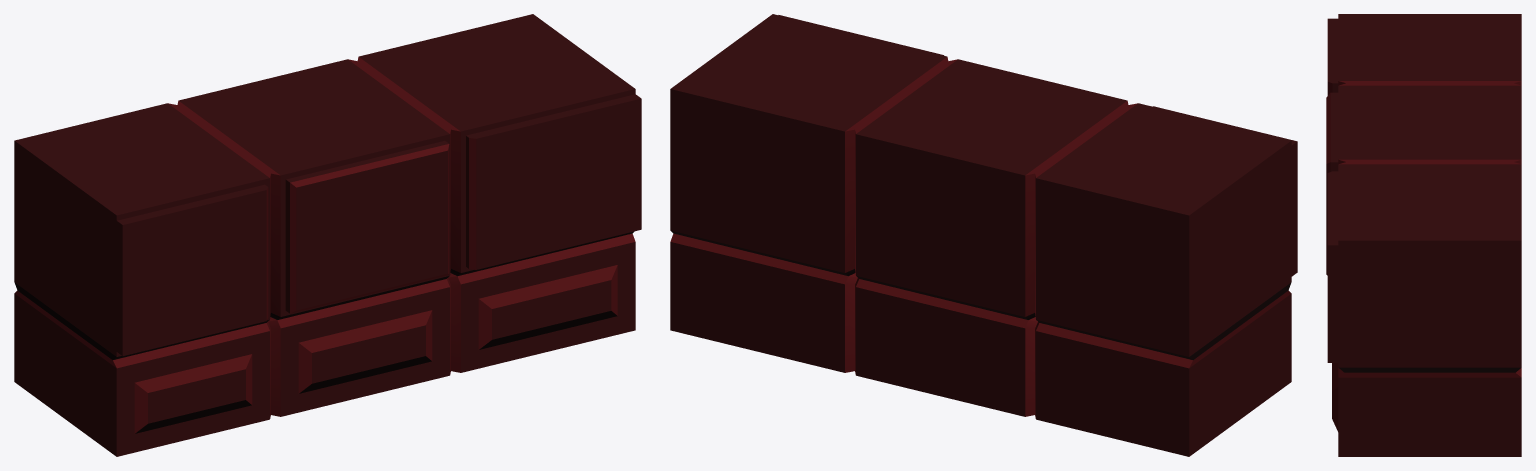
File: Slab_Var3.FBX
3 renders of one model, left to right at view 1: azimuth 30°, elevation 25°; view 2: azimuth 150°, elevation 25°; view 3: azimuth 270°, elevation 25°, orthographic. The views are drawn at different scales.
Parts seen in each view (by area): view 1: Box113; view 2: Box113; view 3: Box113.
Boxes of the visible parts, bbox=[...] form: Box113: bbox=[14, 14, 641, 456]; Box113: bbox=[670, 14, 1297, 456]; Box113: bbox=[1326, 14, 1521, 456].
Size of the model in its own units: 289 by 128 by 105.
